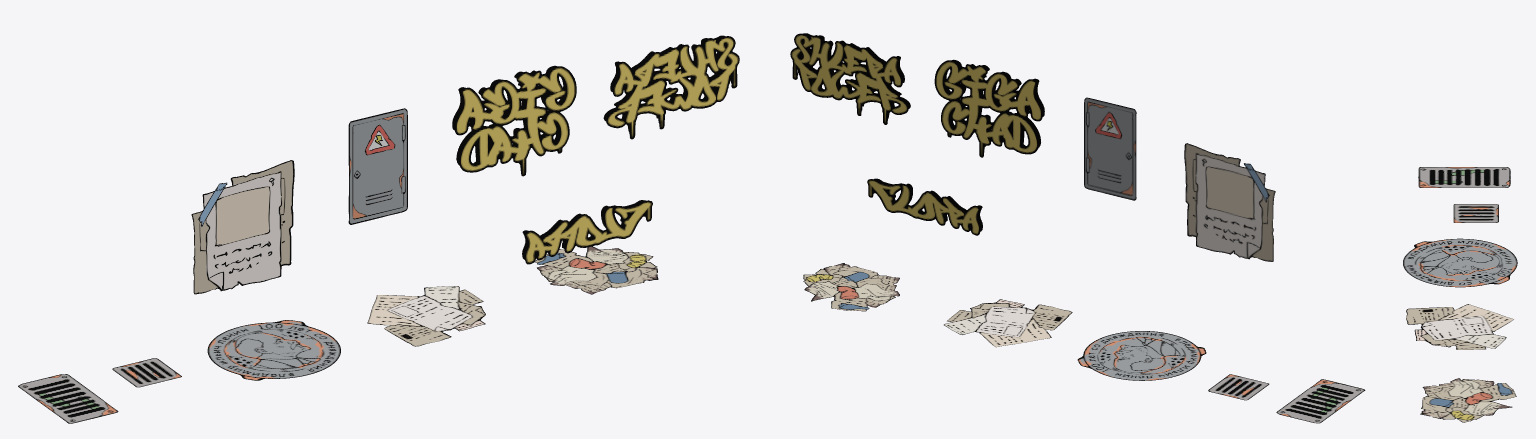
File: Lvl1.Decals-1.fbx
The picture shows the model from 3 angles, left to right: view 1: azimuth 30°, elevation 25°; view 2: azimuth 150°, elevation 25°; view 3: azimuth 270°, elevation 25°; orthographic projection. The views are drawn at different scales.
Parts seen in each view (by area): view 1: Decals_Paper.002, Decals_Grafity.002, Decals_Grafity.001, Decals_Electro.001, Decals_Luk.001, Decals_Paper.001, Decals_Trash.001, Decals_Grafity.003, Decals_WaterDisposal.001, Decals_WaterDisposal.002; view 2: Decals_Paper.002, Decals_Grafity.002, Decals_Grafity.001, Decals_Electro.001, Decals_Luk.001, Decals_Paper.001, Decals_Trash.001, Decals_Grafity.003, Decals_WaterDisposal.001, Decals_WaterDisposal.002; view 3: Decals_Luk.001, Decals_Paper.001, Decals_Trash.001, Decals_WaterDisposal.001, Decals_WaterDisposal.002.
Part boxes in pixels (box(x1,y1,x2,y2)): Decals_Paper.002: box(191, 160, 294, 294); Decals_Grafity.002: box(452, 65, 576, 176); Decals_Grafity.001: box(603, 35, 739, 139); Decals_Electro.001: box(348, 108, 407, 224); Decals_Luk.001: box(207, 320, 340, 380); Decals_Paper.001: box(367, 286, 485, 346); Decals_Trash.001: box(534, 246, 658, 294); Decals_Grafity.003: box(522, 200, 652, 264); Decals_WaterDisposal.001: box(18, 374, 118, 423); Decals_WaterDisposal.002: box(112, 358, 181, 387); Decals_Paper.002: box(1184, 143, 1275, 261); Decals_Grafity.002: box(934, 59, 1044, 157); Decals_Grafity.001: box(790, 33, 910, 124); Decals_Electro.001: box(1084, 97, 1136, 200); Decals_Luk.001: box(1077, 331, 1206, 380); Decals_Paper.001: box(944, 299, 1072, 347); Decals_Trash.001: box(803, 263, 899, 311); Decals_Grafity.003: box(867, 178, 982, 235); Decals_WaterDisposal.001: box(1276, 379, 1365, 423); Decals_WaterDisposal.002: box(1208, 374, 1269, 400); Decals_Luk.001: box(1403, 238, 1517, 287); Decals_Paper.001: box(1406, 304, 1513, 349); Decals_Trash.001: box(1420, 378, 1516, 422); Decals_WaterDisposal.001: box(1418, 167, 1510, 187); Decals_WaterDisposal.002: box(1453, 204, 1498, 222).
Bounding box in the file's own units: 500 × 187 × 95.46.
